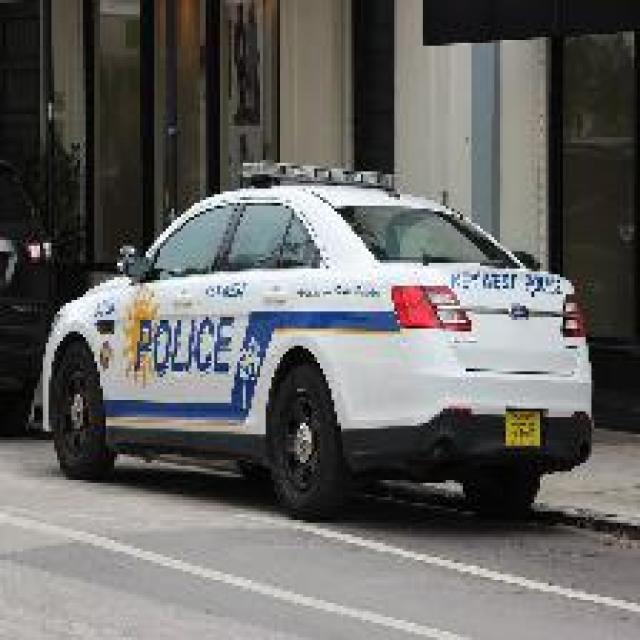emergency: (31, 161, 596, 521)
